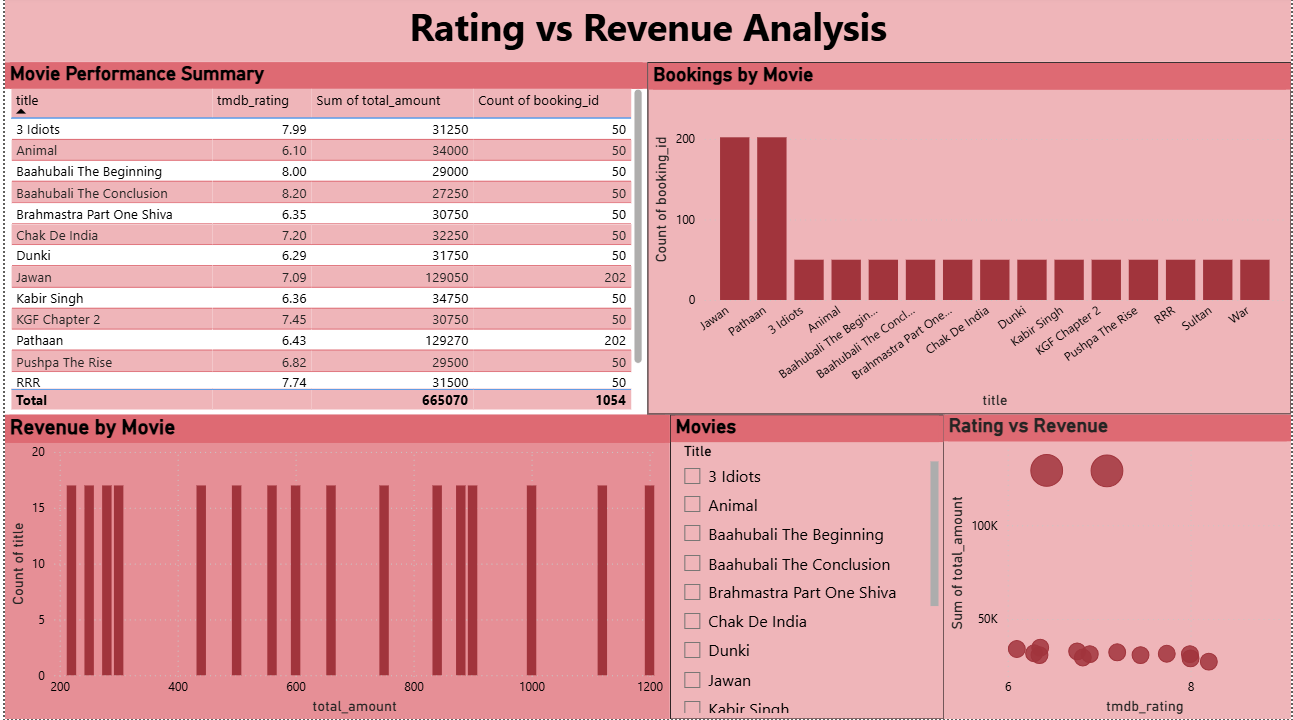

This screenshot's page, from the dashboard's own definition file:
{"tool":"powerbi","page":{"name":"Page 2","canvas":[1280,720],"ordinal":1},"visuals":[{"type":"tableEx","title":"Movie Performance Summary","fields":{"Values":["movies.title","movies.tmdb_rating","Sum(bookings.total_amount)","CountNonNull(bookings.booking_id)"]},"box":[0,65.9,639.4,350.8],"z":0},{"type":"actionButton","box":[0,0,100,40],"z":1000},{"type":"clusteredColumnChart","title":"Revenue by Movie","fields":{"Y":["CountNonNull(movies.title)"],"Category":["bookings.total_amount"]},"box":[0,417.2,661.4,303.3],"z":2000},{"type":"clusteredColumnChart","title":"Bookings by Movie","fields":{"Y":["CountNonNull(bookings.booking_id)"],"Category":["movies.title"]},"box":[639.4,65.9,640.6,350.8],"z":3000},{"type":"slicer","title":"Movies","fields":{"Values":["movies.title"]},"box":[661.4,417.2,273.1,303.3],"z":4000},{"type":"scatterChart","title":"Rating vs Revenue","fields":{"X":["movies.tmdb_rating"],"Y":["Sum(bookings.total_amount)"],"Size":["CountNonNull(bookings.booking_id)"]},"box":[934.5,417.2,345.8,303.3],"z":5000},{"type":"textbox","box":[0,0,1280,65.9],"z":6000}]}

Visuals, with their boxes in screenshot pixels (x1, y1, x2, y2), scaled from the page's 1280x720 canvas onto the 1293x720 screenshot:
"Movie Performance Summary" tableEx: rect(0, 66, 646, 417)
actionButton: rect(0, 0, 101, 40)
"Revenue by Movie" clusteredColumnChart: rect(0, 417, 668, 719)
"Bookings by Movie" clusteredColumnChart: rect(646, 66, 1292, 417)
"Movies" slicer: rect(668, 417, 944, 719)
"Rating vs Revenue" scatterChart: rect(944, 417, 1292, 719)
textbox: rect(0, 0, 1292, 66)
